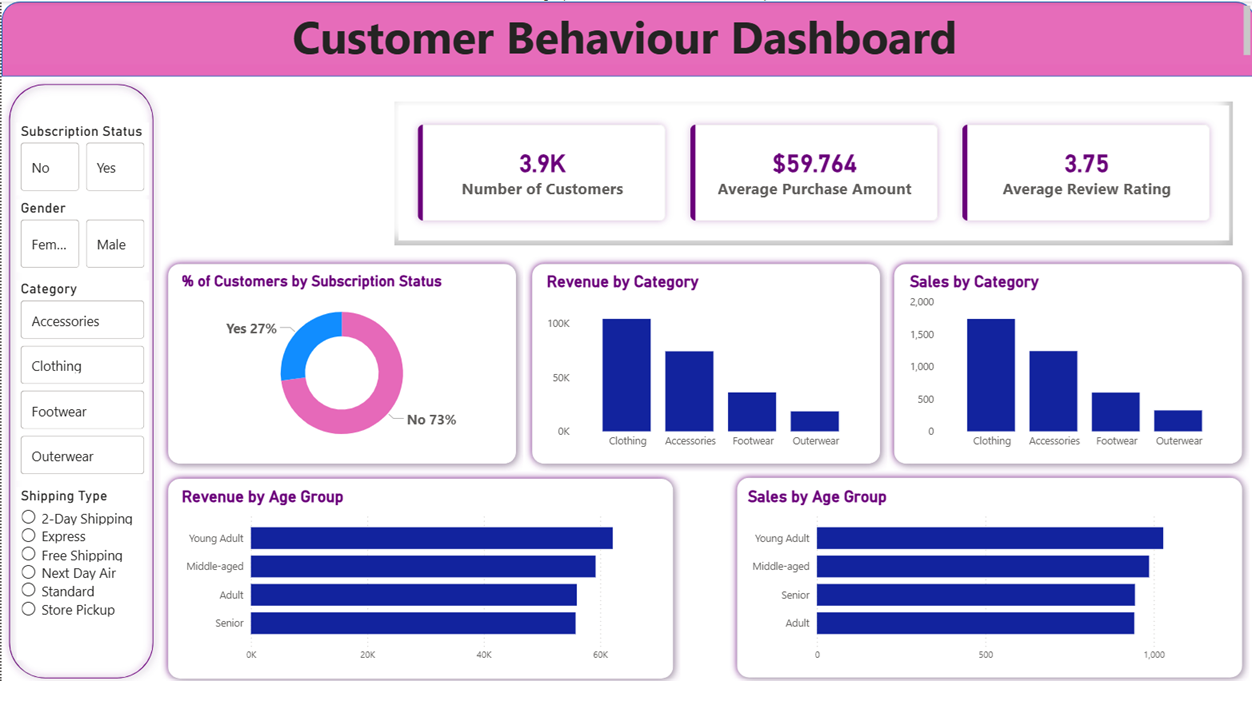

Layout of this report page (visuals, bound fields, positions):
{"tool":"powerbi","page":{"name":"Page 1","canvas":[1500,820],"ordinal":0},"visuals":[{"type":"cardVisual","fields":{"Data":["customer.Number of Customers","customer.Average Purchase Amount","customer.Average Review Rating"]},"box":[470.1,119.9,1004.3,171.7],"z":0},{"type":"shape","box":[0,0,1500.3,89.9],"z":1000},{"type":"textbox","box":[0,0,1500.3,74.9],"z":2000},{"type":"shape","box":[190.8,305.2,434.7,257.5],"z":3000},{"type":"donutChart","title":"% of Customers by Subscription Status","fields":{"Category":["customer.subscription_status"],"Y":["CountNonNull(customer.customer_id)"]},"box":[211.2,324.3,393.8,220.7],"z":4000},{"type":"shape","box":[626.8,305.2,434.7,257.5],"z":5000},{"type":"shape","box":[1060.1,305.2,434.7,257.5],"z":6000},{"type":"clusteredColumnChart","title":"Revenue by Category","fields":{"Y":["Sum(customer.purchase_amount)"],"Category":["customer.category"]},"box":[647.3,324.3,392.4,220.7],"z":7000},{"type":"clusteredColumnChart","title":"Sales by Category","fields":{"Category":["customer.category"],"Y":["CountNonNull(customer.customer_id)"]},"box":[1081.9,324.3,392.4,220.7],"z":8000},{"type":"shape","box":[0,89.9,190.8,730.4],"z":9000},{"type":"advancedSlicerVisual","fields":{"Values":["customer.subscription_status"]},"box":[17.7,144.4,158.1,87.2],"z":10000},{"type":"advancedSlicerVisual","fields":{"Values":["customer.gender"]},"box":[17.7,237.1,158.1,87.2],"z":11000},{"type":"advancedSlicerVisual","fields":{"Values":["customer.category"]},"box":[17.7,333.8,158.1,239.8],"z":12000},{"type":"listSlicer","fields":{"Values":["customer.shipping_type"]},"box":[17.7,581.9,149.9,207.1],"z":13000},{"type":"shape","box":[190.8,562.8,622.7,257.5],"z":14000},{"type":"clusteredBarChart","title":"Revenue by Age Group","fields":{"Y":["Sum(customer.purchase_amount)"],"Category":["customer.age_group"]},"box":[211.2,581.9,590,218],"z":15000},{"type":"shape","box":[872.1,561.4,622.7,257.5],"z":16000},{"type":"clusteredBarChart","title":"Sales by Age Group","fields":{"Y":["CountNonNull(customer.customer_id)"],"Category":["customer.age_group"]},"box":[888.4,581.9,590,218],"z":17000}]}

Visuals, with their boxes on the page's 1500x820 design canvas (x1, y1, x2, y2). These are canvas units, not pixel positions in the 1252x720 screenshot, which may show the page scaled, cropped or inside an application window:
cardVisual - customer.Number of Customers x customer.Average Purchase Amount: region(470, 120, 1474, 292)
shape: region(0, 0, 1500, 90)
textbox: region(0, 0, 1500, 75)
shape: region(191, 305, 626, 563)
"% of Customers by Subscription Status" donutChart: region(211, 324, 605, 545)
shape: region(627, 305, 1062, 563)
shape: region(1060, 305, 1495, 563)
"Revenue by Category" clusteredColumnChart: region(647, 324, 1040, 545)
"Sales by Category" clusteredColumnChart: region(1082, 324, 1474, 545)
shape: region(0, 90, 191, 820)
advancedSlicerVisual - customer.subscription_status: region(18, 144, 176, 232)
advancedSlicerVisual - customer.gender: region(18, 237, 176, 324)
advancedSlicerVisual - customer.category: region(18, 334, 176, 574)
listSlicer - customer.shipping_type: region(18, 582, 168, 789)
shape: region(191, 563, 814, 820)
"Revenue by Age Group" clusteredBarChart: region(211, 582, 801, 800)
shape: region(872, 561, 1495, 819)
"Sales by Age Group" clusteredBarChart: region(888, 582, 1478, 800)
